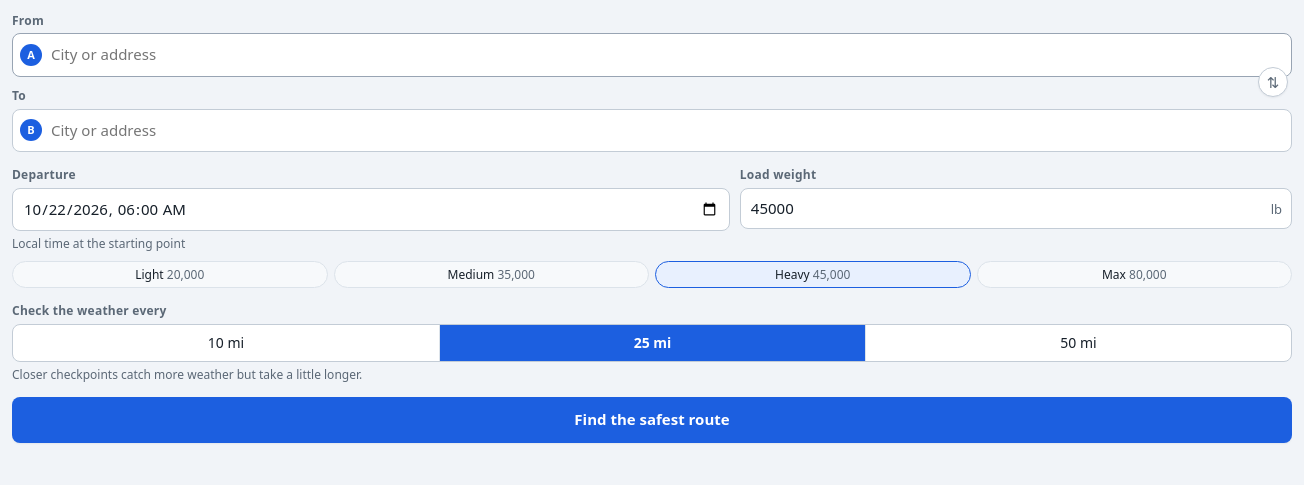
Scenario: TripForm › refuses a trip from a place to itself
Type "Chicago" into the dropdown labelled "From".
click(652, 55); type("Chicago")  # box [12,33,1292,77]
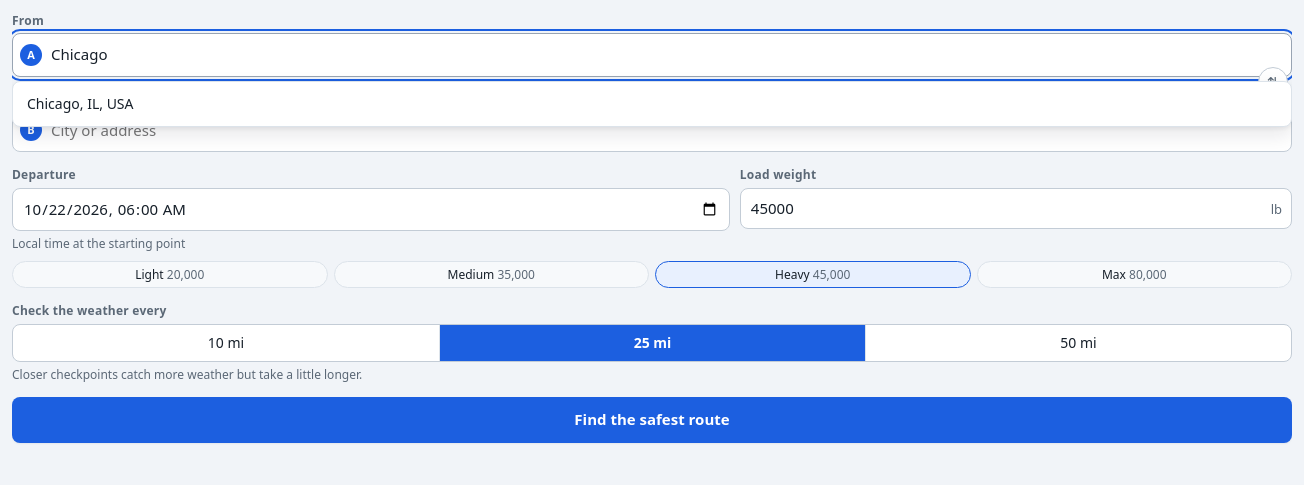
Click the option "Chicago, IL, USA".
click(80, 104)  # box [27,94,134,113]
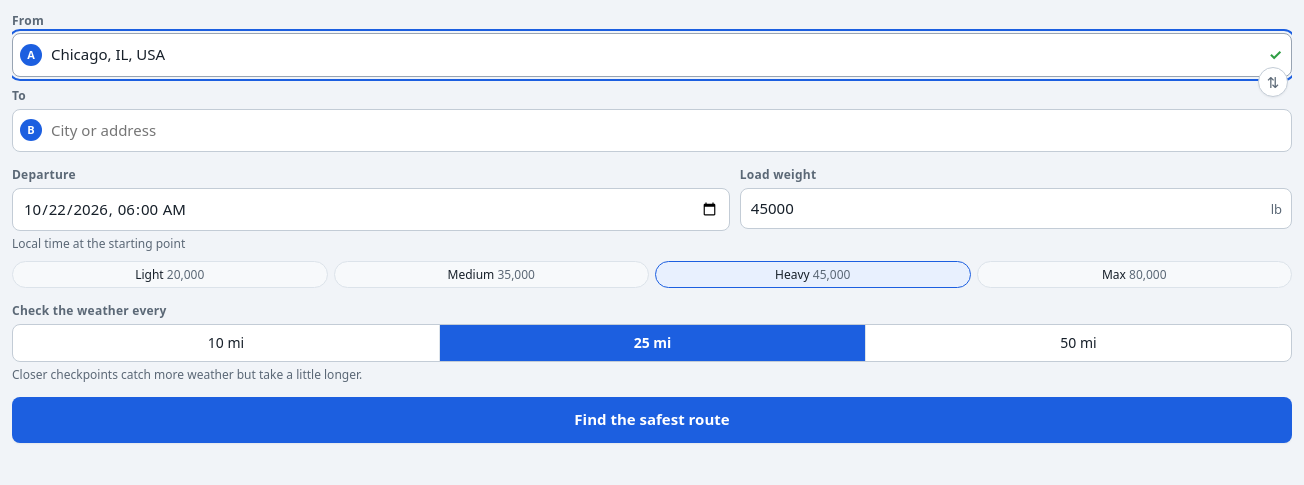
Type "Chicago" into the dropdown labelled "To".
click(652, 130); type("Chicago")  # box [12,108,1292,152]
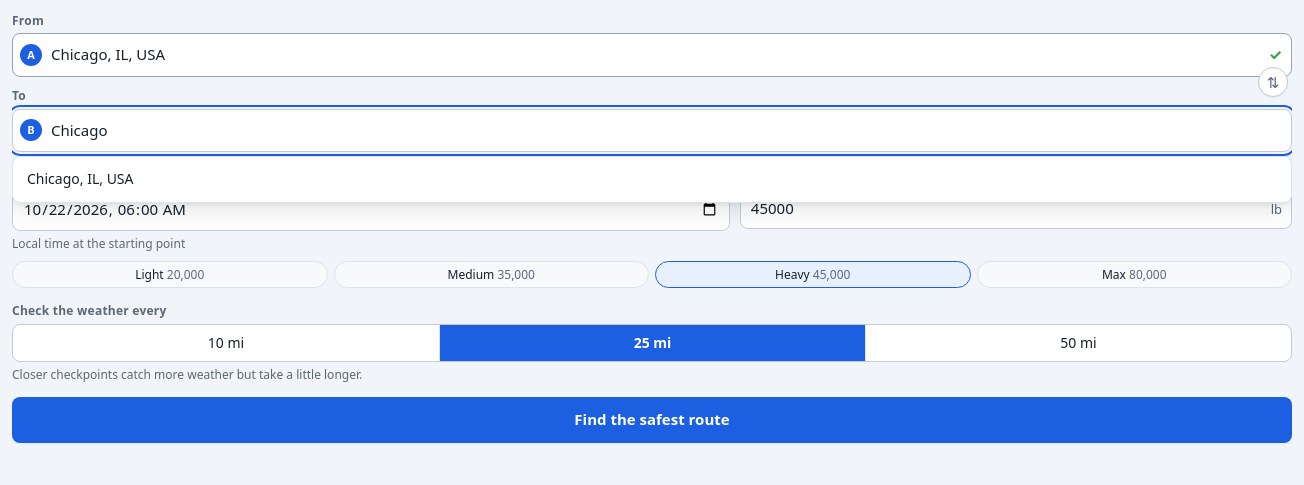
Click the option "Chicago, IL, USA".
click(80, 179)  # box [27,169,134,188]
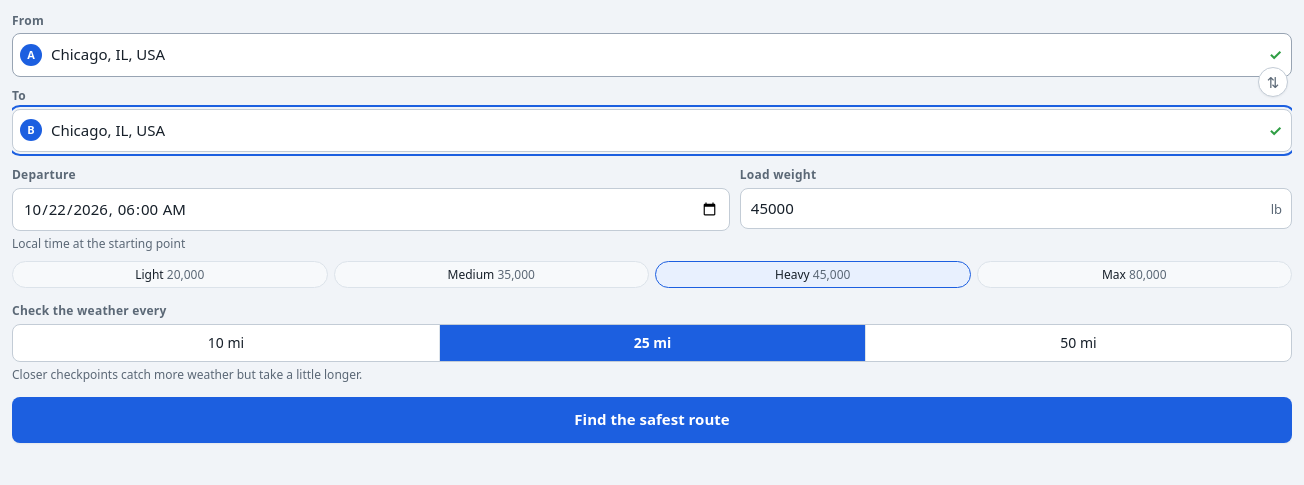
Click the button "Find the safest route".
click(652, 420)  # box [12,397,1292,443]
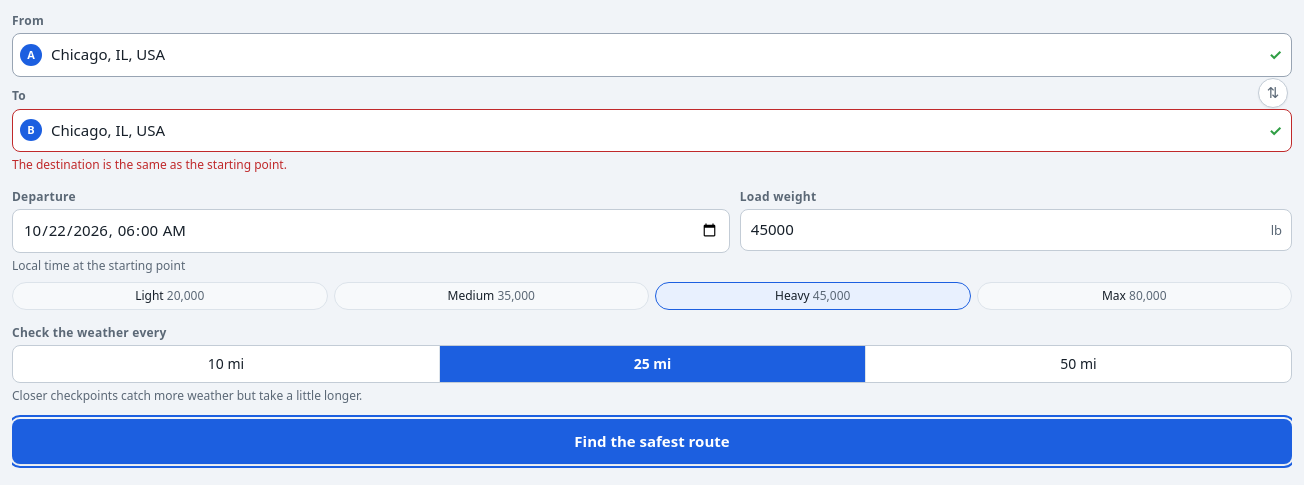
Expected: the text "The destination is the same as the starting point." is shown, [12,156,287,173]
